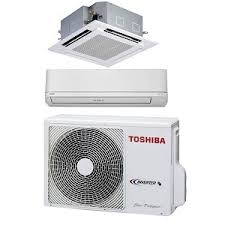ac: (43, 65, 174, 111)
